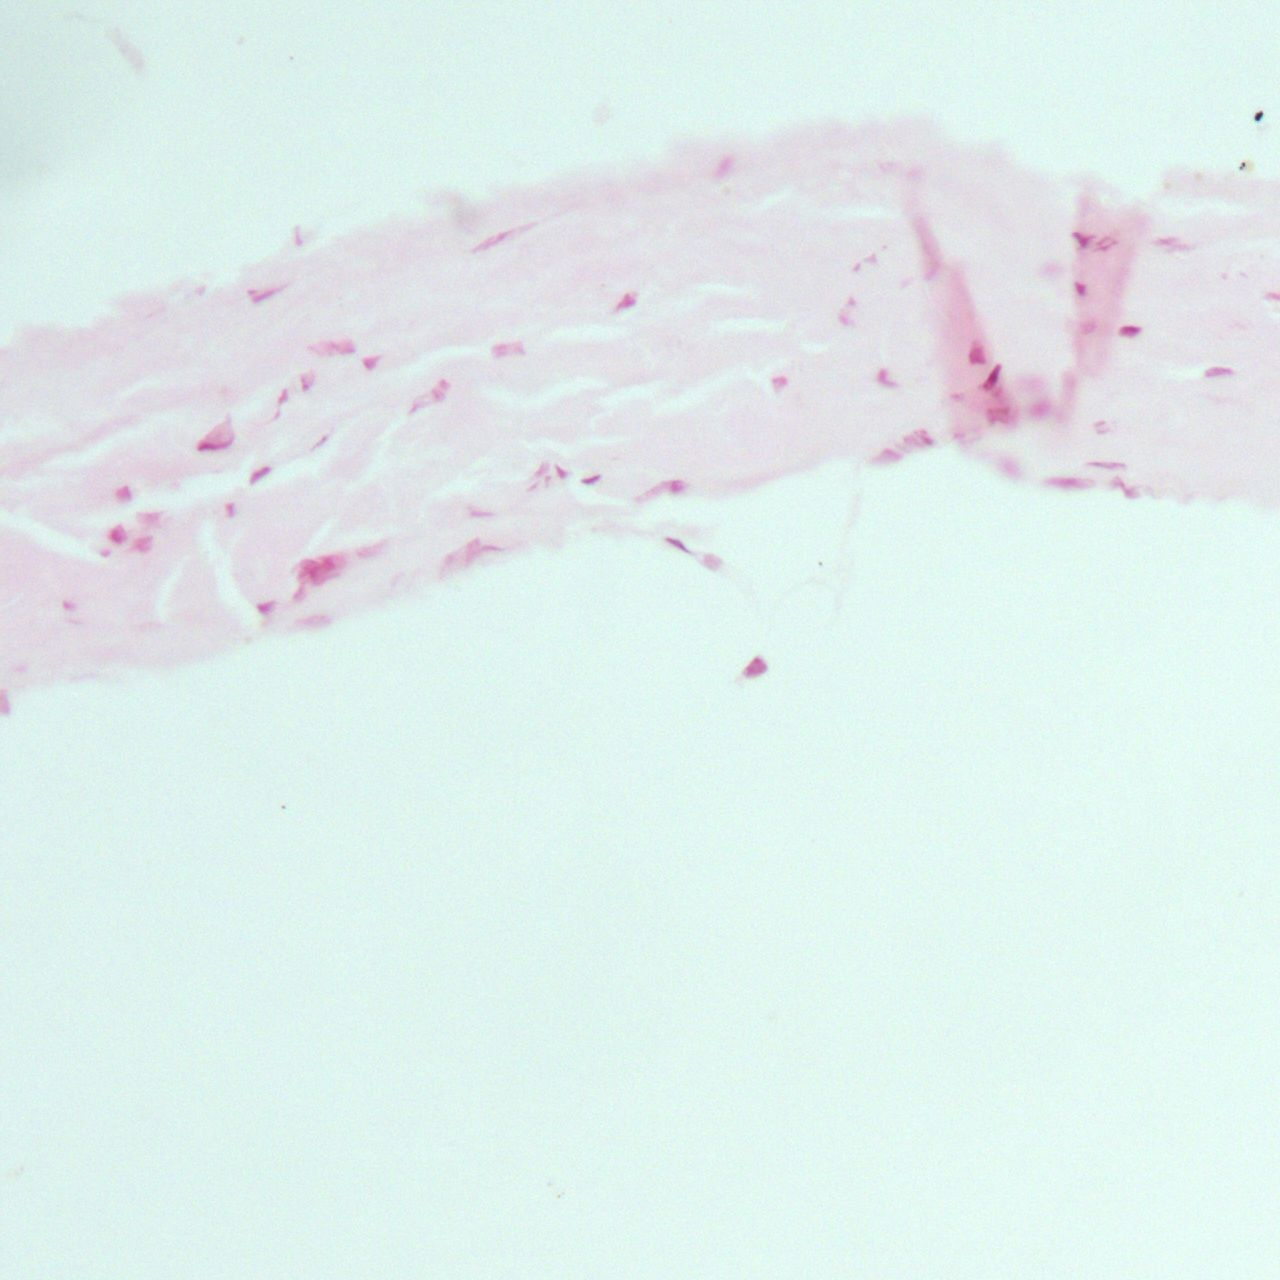dust: (1254, 110, 1263, 121), (1240, 160, 1246, 166), (1237, 167, 1244, 171), (818, 561, 822, 566), (281, 805, 286, 808)
nucleus-AC: (295, 540, 348, 592), (470, 217, 537, 253), (459, 530, 505, 566), (193, 433, 236, 459), (246, 277, 282, 305), (710, 152, 738, 183), (308, 339, 356, 355), (661, 532, 692, 556), (246, 462, 275, 487), (742, 655, 770, 679), (981, 362, 1004, 391), (1044, 474, 1085, 490), (1028, 400, 1056, 423), (355, 540, 383, 562), (309, 430, 334, 453), (1015, 374, 1048, 391), (491, 341, 526, 357), (1111, 476, 1136, 498), (871, 446, 901, 464), (1061, 372, 1075, 409), (530, 459, 553, 481), (612, 292, 637, 312), (1201, 363, 1234, 378), (1086, 458, 1126, 470), (985, 406, 1013, 423), (296, 616, 334, 628), (966, 343, 986, 364), (1152, 236, 1182, 250), (255, 599, 277, 618), (107, 524, 127, 544), (1071, 232, 1094, 249), (114, 485, 134, 504), (1074, 320, 1099, 335), (137, 510, 163, 524), (551, 462, 570, 481), (292, 225, 306, 250), (292, 579, 307, 602), (915, 428, 933, 447), (999, 460, 1017, 479), (359, 355, 379, 372), (876, 369, 896, 386), (132, 537, 153, 553), (1118, 325, 1143, 338), (661, 479, 684, 493), (1094, 232, 1116, 246), (772, 373, 788, 392), (0, 688, 11, 715), (469, 509, 494, 520), (579, 473, 600, 486), (1097, 240, 1116, 254), (1043, 264, 1061, 278), (1074, 280, 1087, 299), (526, 479, 541, 494), (429, 388, 445, 402), (300, 374, 313, 391), (278, 387, 289, 405), (224, 504, 238, 518), (924, 267, 938, 281), (952, 430, 966, 444), (408, 400, 424, 412), (1095, 428, 1114, 438), (11, 665, 31, 674), (865, 252, 878, 265), (62, 601, 76, 613), (949, 392, 963, 404), (438, 377, 449, 390), (839, 315, 850, 327), (1091, 419, 1107, 426), (846, 296, 856, 307), (852, 262, 863, 272), (271, 410, 282, 419), (544, 475, 550, 488), (101, 550, 111, 557)
